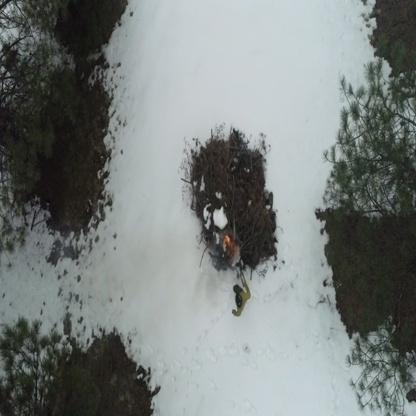Fire: (219, 232, 235, 254)
